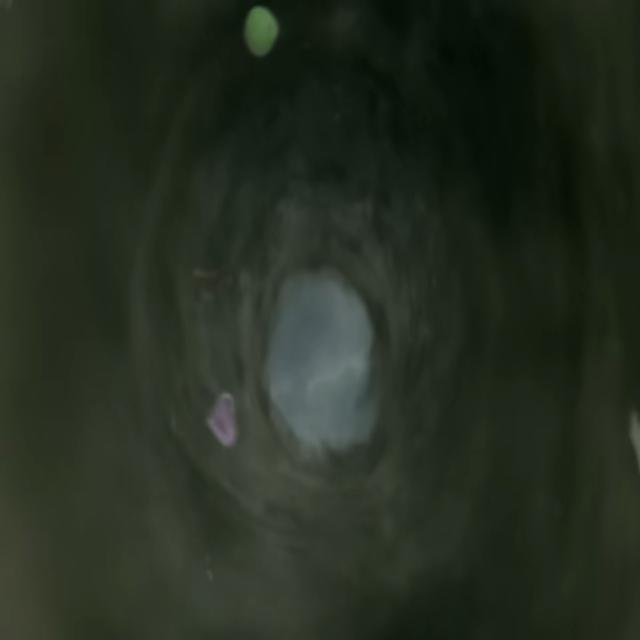balloon: (244, 8, 281, 59), (209, 391, 239, 446)
